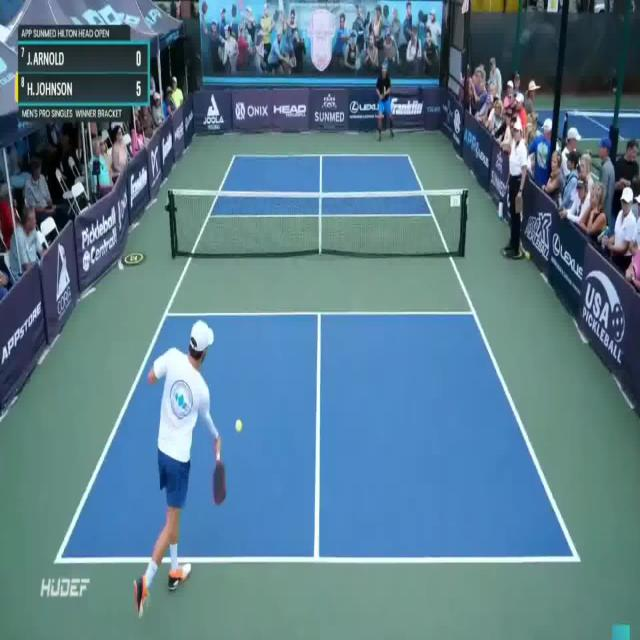ball: (234, 416, 243, 433)
